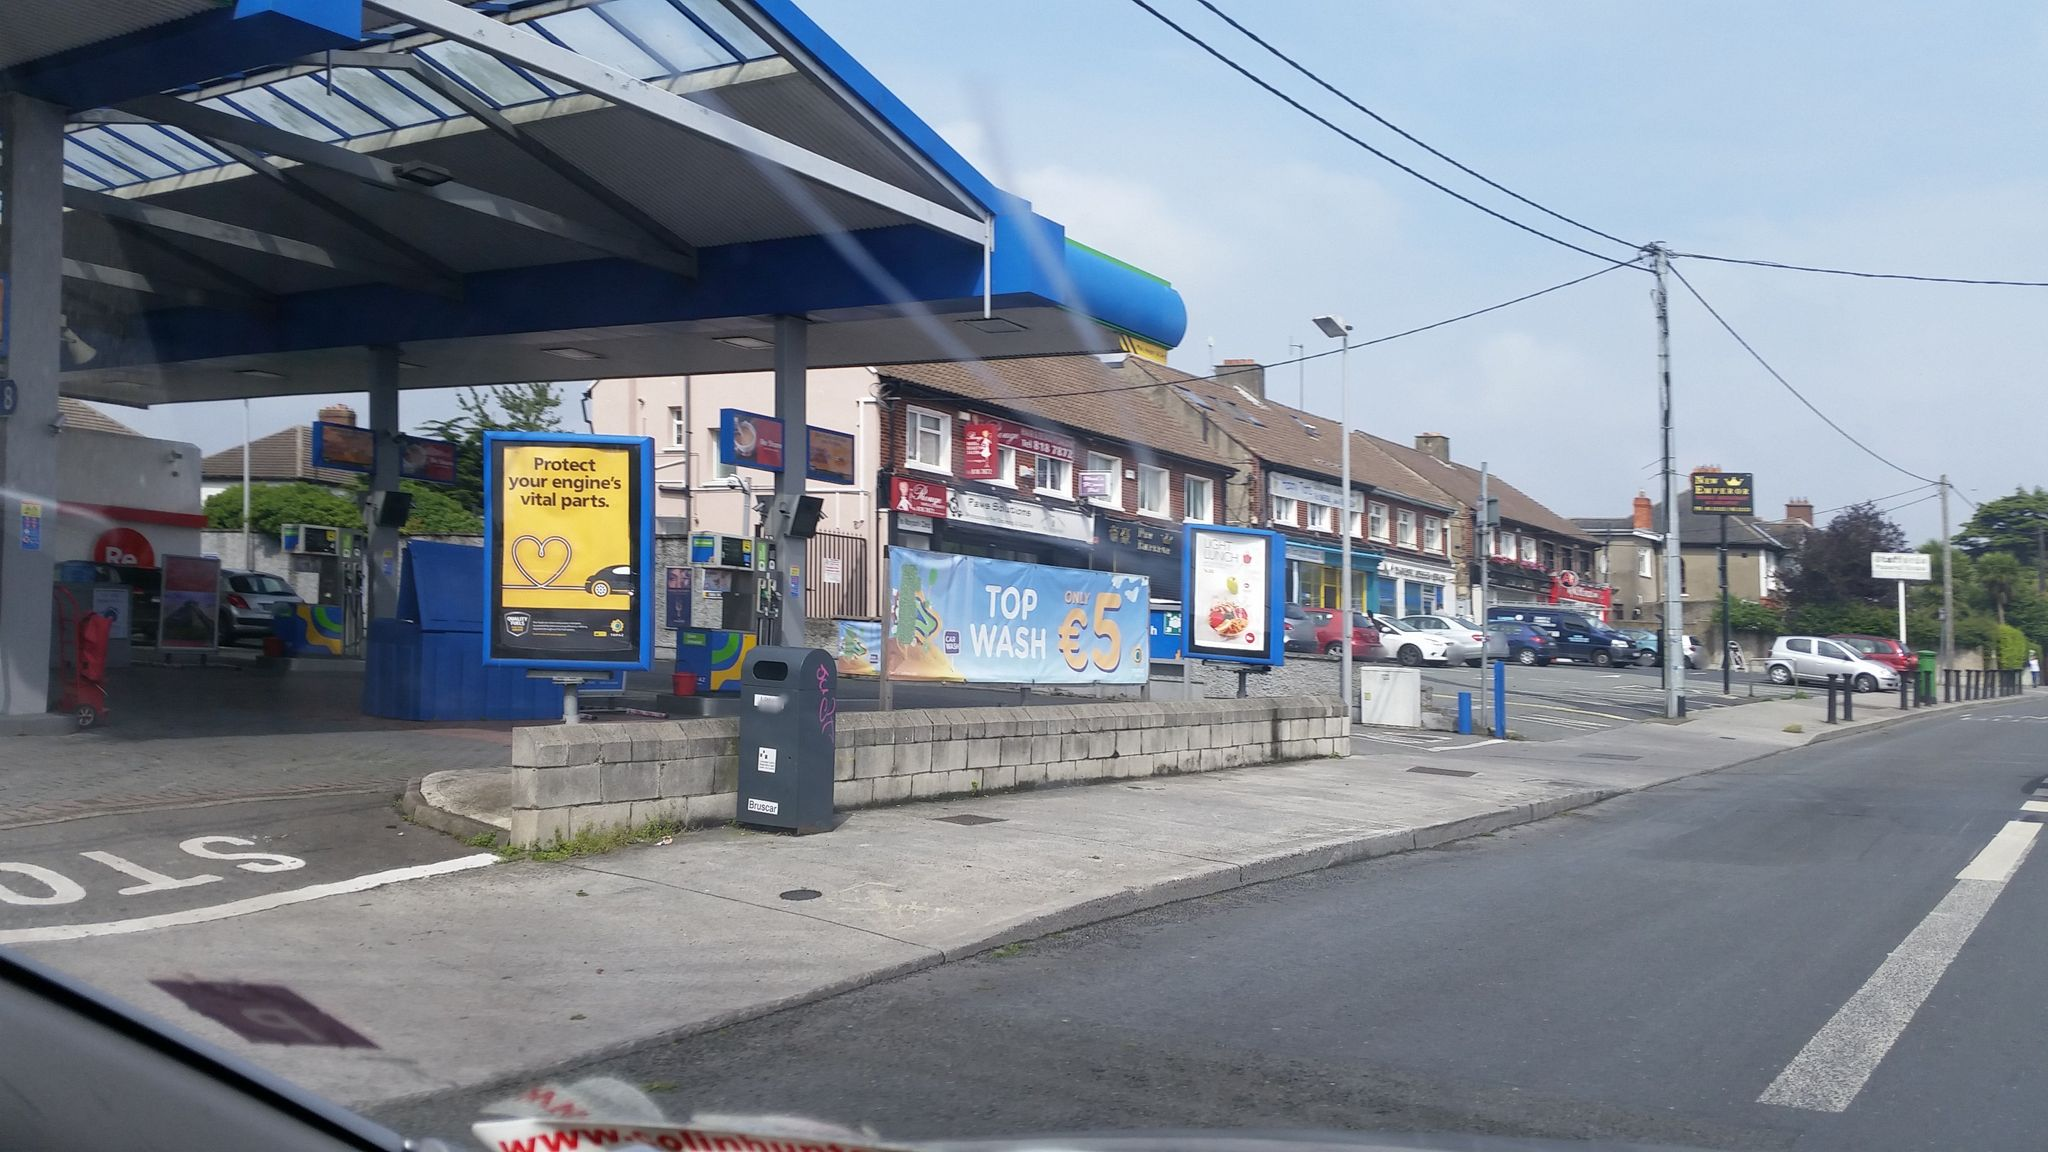vinyl banner: (871, 535, 1158, 691)
